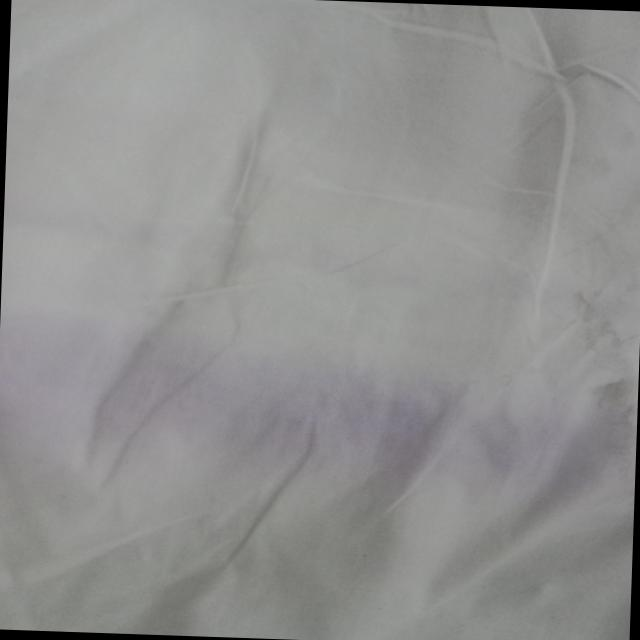stain: (0, 325, 604, 495), (262, 220, 625, 318), (309, 84, 604, 200)
